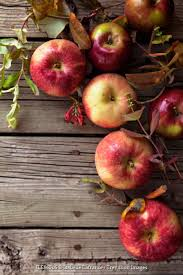apple: (98, 130, 155, 192), (82, 71, 134, 126), (34, 45, 83, 100)
damaged_apple: (114, 197, 180, 262), (90, 24, 131, 72), (150, 87, 183, 135), (124, 2, 168, 30)
